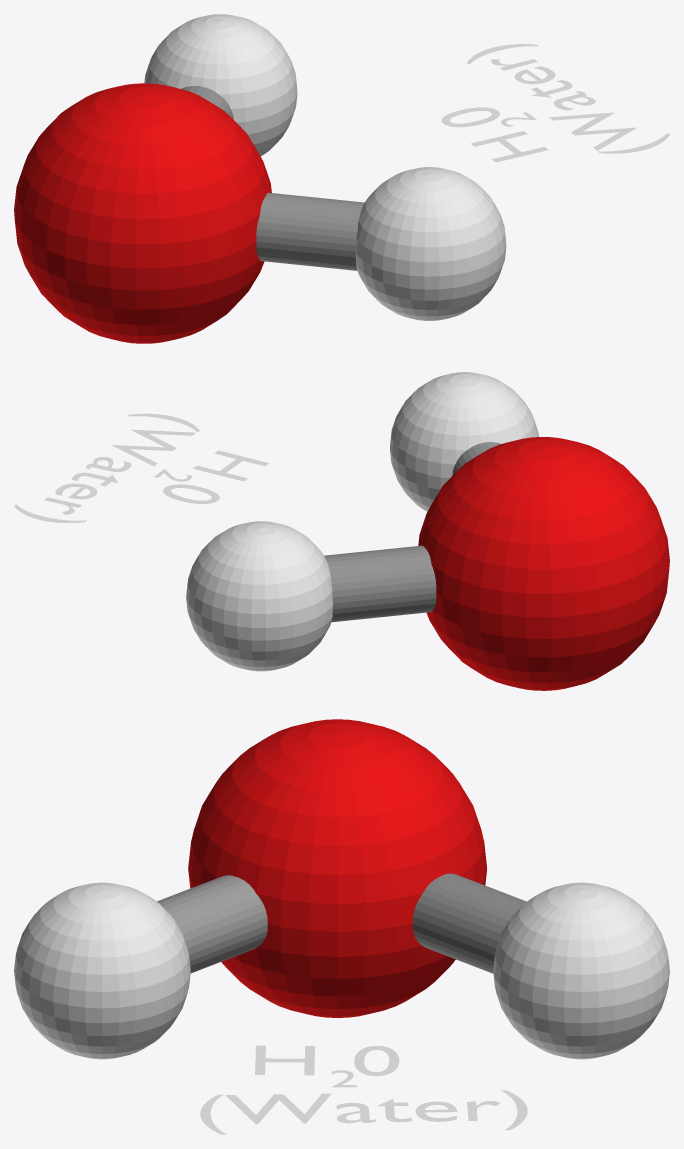
Rendered from Water .fbx.
3 views of the same model, one above another, from view 1: azimuth 30°, elevation 25°; view 2: azimuth 150°, elevation 25°; view 3: azimuth 270°, elevation 25° (orthographic). The views are drawn at different scales.
Parts seen in each view (by area): view 1: Sphere, Sphere.002, Sphere.001, Cylinder, Text.002, Text, Cylinder.001; view 2: Sphere, Sphere.001, Sphere.002, Cylinder.001, Text.002, Text; view 3: Sphere, Sphere.001, Sphere.002, Cylinder.001, Cylinder, Text.002, Text.
Boxes of the visible parts, bbox=[...] form: Sphere: bbox=[14, 83, 271, 343]; Sphere.002: bbox=[355, 167, 506, 320]; Sphere.001: bbox=[144, 14, 297, 156]; Cylinder: bbox=[256, 192, 364, 270]; Text.002: bbox=[467, 44, 669, 153]; Text: bbox=[441, 107, 548, 162]; Cylinder.001: bbox=[181, 86, 233, 119]; Sphere: bbox=[418, 437, 669, 690]; Sphere.001: bbox=[186, 521, 333, 671]; Sphere.002: bbox=[390, 372, 538, 511]; Cylinder.001: bbox=[324, 545, 436, 622]; Text.002: bbox=[14, 413, 199, 522]; Text: bbox=[163, 450, 269, 503]; Sphere: bbox=[188, 719, 487, 1017]; Sphere.001: bbox=[493, 882, 669, 1059]; Sphere.002: bbox=[14, 882, 190, 1059]; Cylinder.001: bbox=[412, 873, 526, 973]; Cylinder: bbox=[157, 875, 267, 973]; Text.002: bbox=[200, 1090, 527, 1134]; Text: bbox=[255, 1045, 399, 1076].
Bounding box in the file's own units: 759 × 292 × 639.
